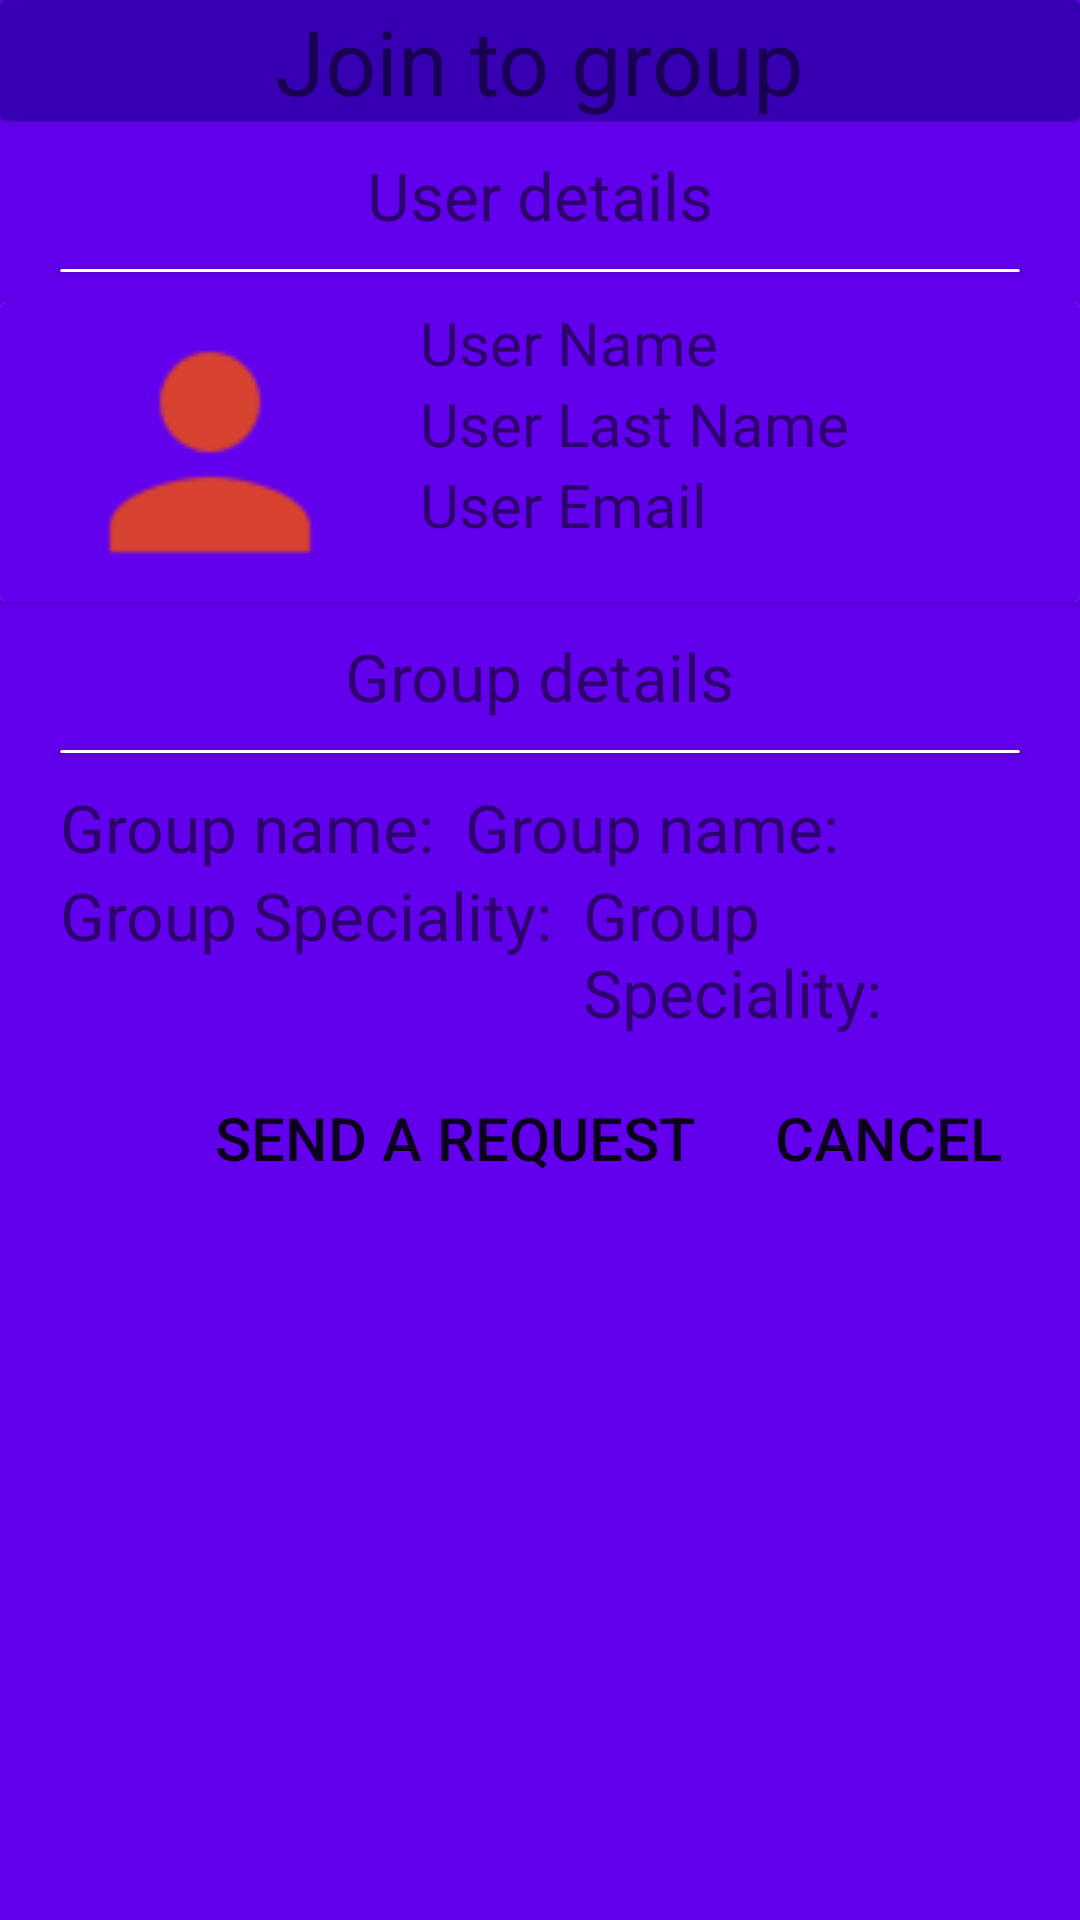

Icon bounding boxes for this 1080*1920 phone screenshot, format (x1, y1, x2, y2):
person: (108, 350, 312, 554)
